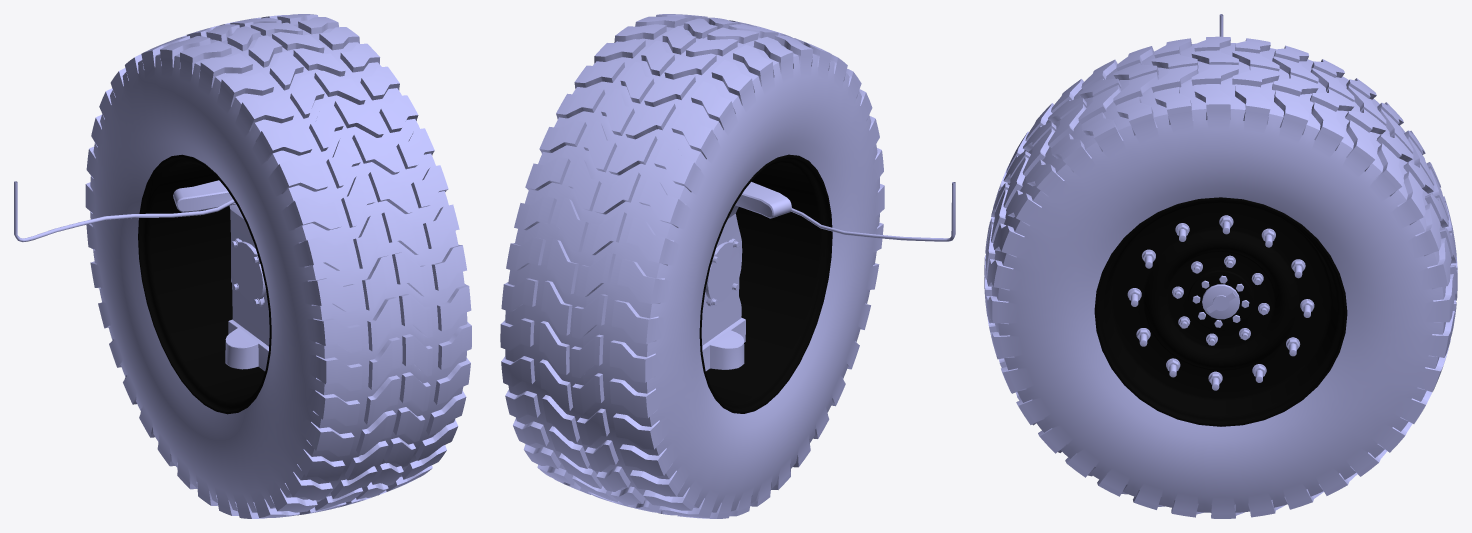
File: wheel_FL.fbx
3 views of the same model, side by side, from view 1: azimuth 30°, elevation 25°; view 2: azimuth 150°, elevation 25°; view 3: azimuth 270°, elevation 25° (orthographic). The views are drawn at different scales.
Visible parts, largest first — view 1: wheel, brake, brake_hose; view 2: wheel, brake, brake_hose; view 3: wheel.
Part boxes in pixels (x1,y1,x2,y2): wheel: [85, 14, 471, 518]; brake: [173, 180, 269, 370]; brake_hose: [14, 181, 234, 242]; wheel: [500, 14, 884, 518]; brake: [701, 182, 791, 371]; brake_hose: [791, 182, 955, 241]; wheel: [984, 36, 1457, 518].
Bounding box in the file's own units: 75.07 × 94.15 × 94.16.
